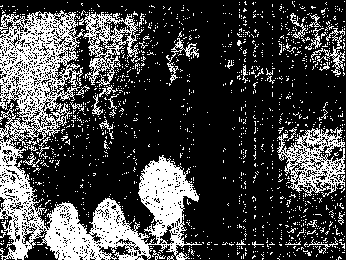person: (140, 155, 199, 250), (89, 195, 152, 260), (49, 200, 93, 260)
